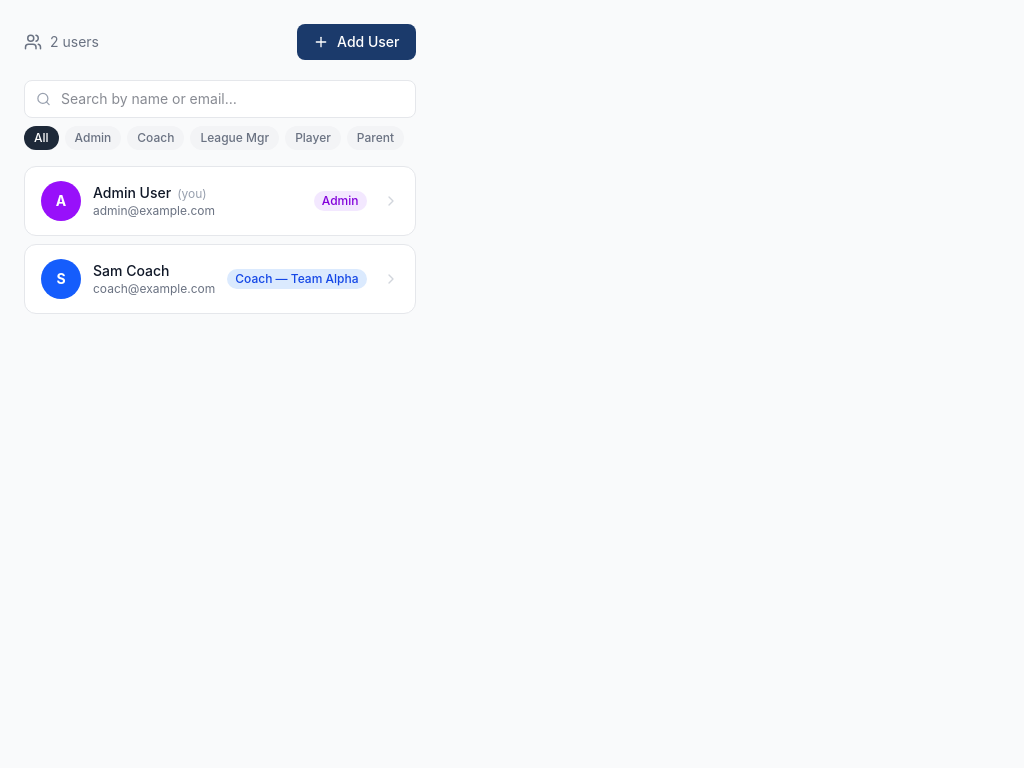
Scenario: UsersPage — AddMembershipForm: child picker for parent role › clears child selection when team is changed
Check: the text "Sam Coach" is shown, box [93,262,170,279]
Step 1. Click the button "Sam Coach" → (61, 279), box [24,244,416,314]
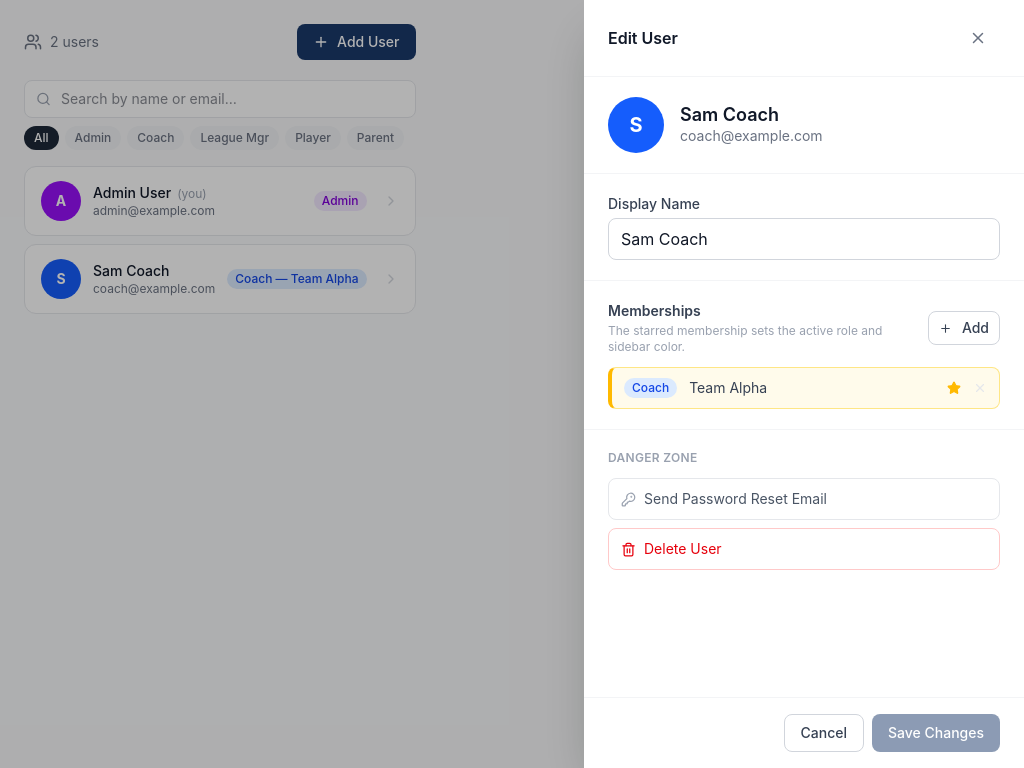
Step 2. Click the button "Add" → (964, 328), box [928,311,1000,345]
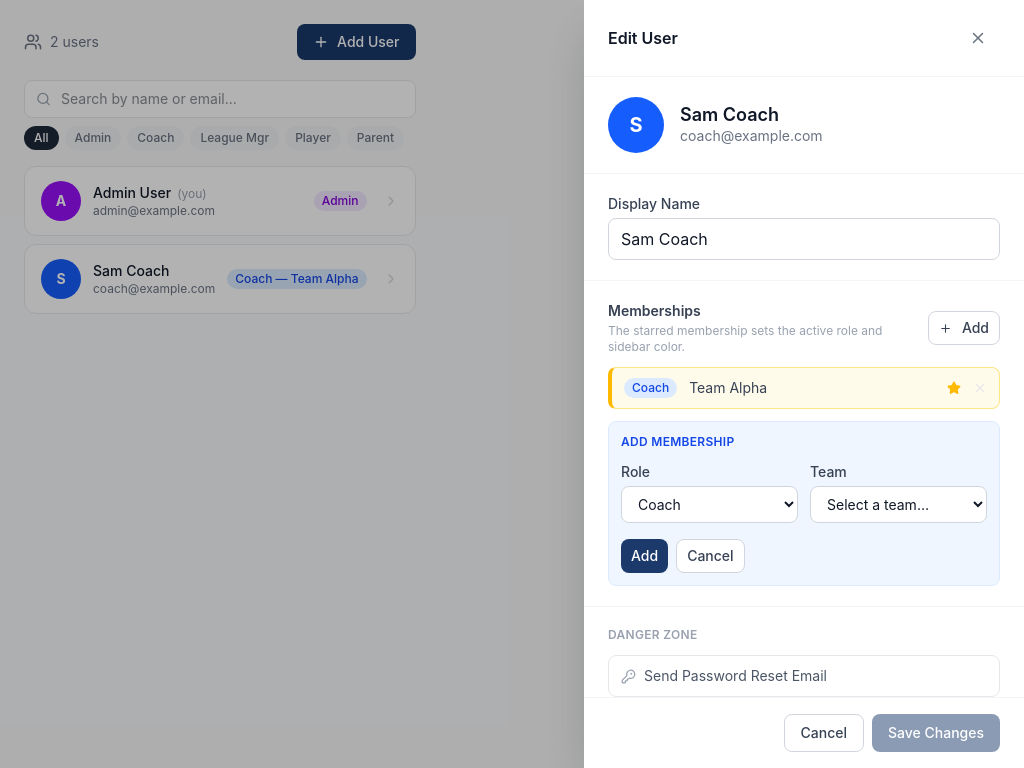
Step 3. Select "Parent" in the dropdown labelled "Role" → (710, 504), box [621,486,798,523]
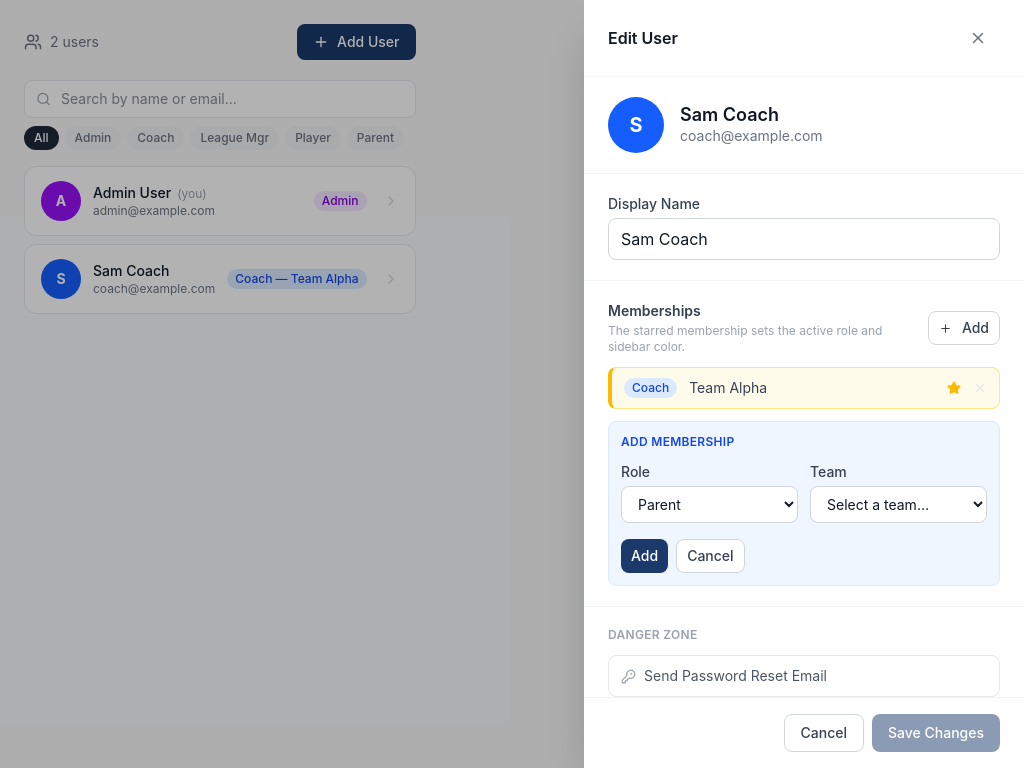
Step 4. Select "Team Alpha" in the dropdown labelled "Team" → (898, 504), box [810,486,987,523]
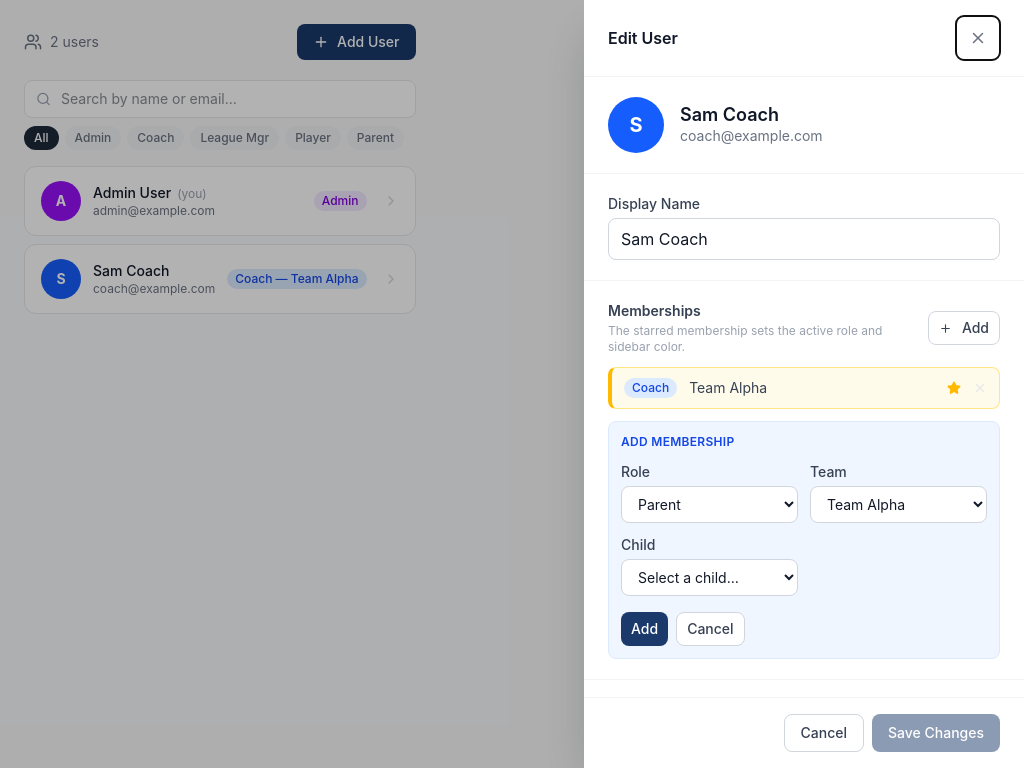
Check: the dropdown labelled "Child" is shown
Step 5. Select "Tommy" in the dropdown labelled "Child" → (710, 578), box [621,559,798,596]
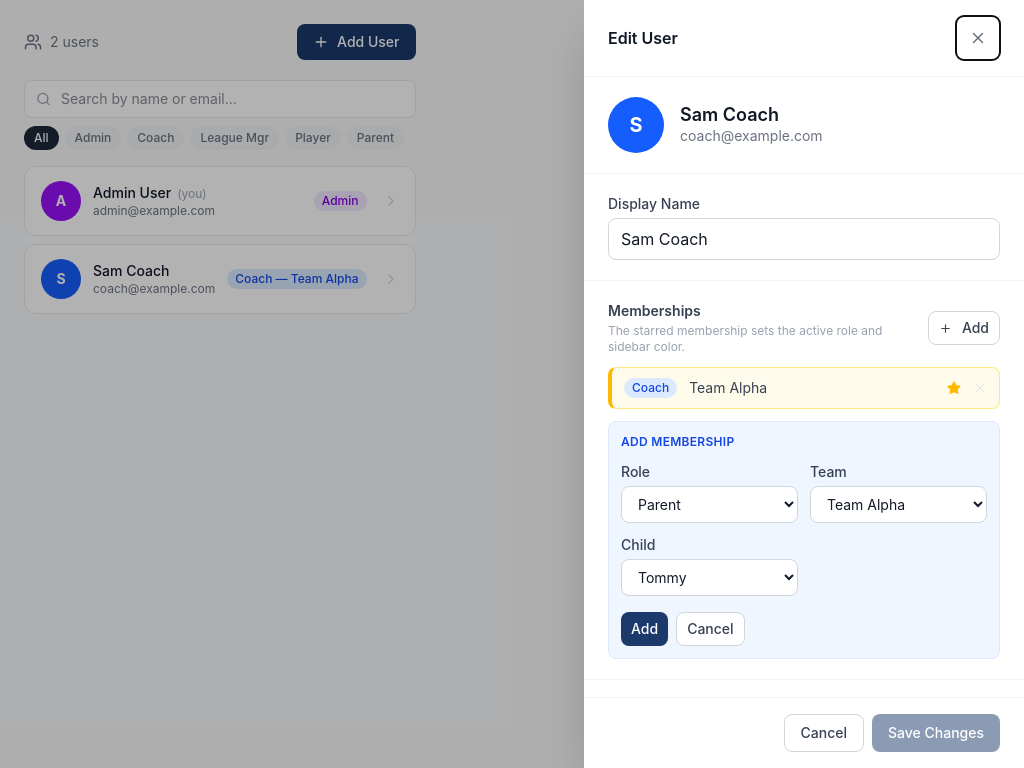
Step 6. Select "Select a team…" in the dropdown labelled "Team" → (898, 504), box [810,486,987,523]
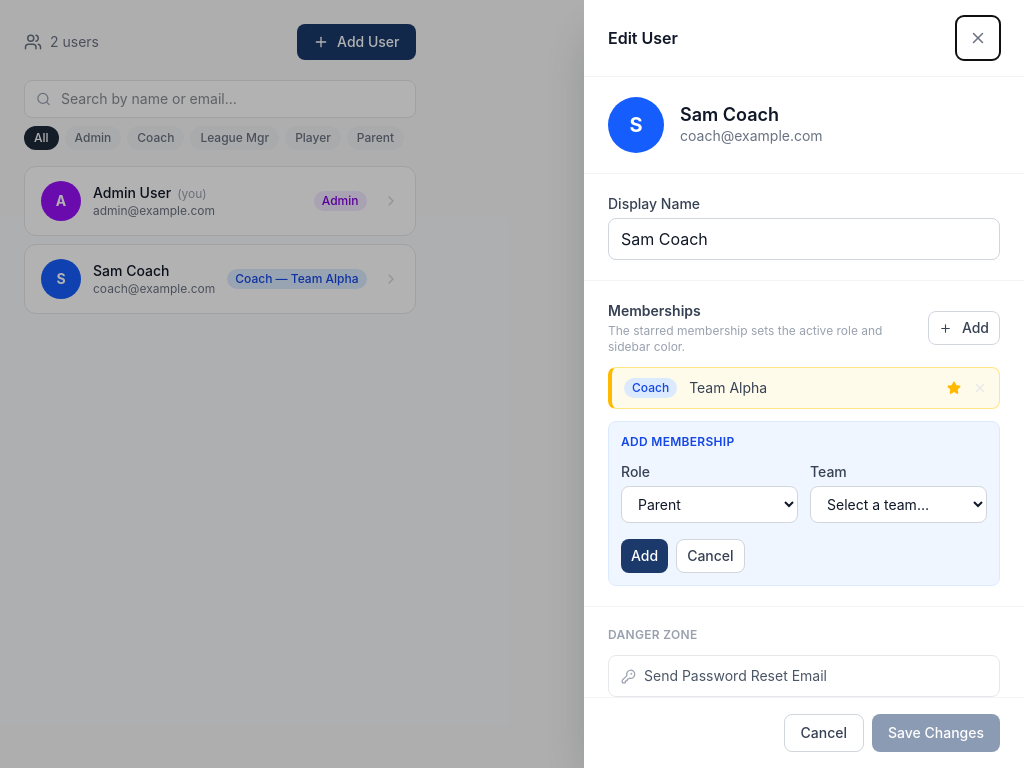
Check: the label labelled "Child" is gone
